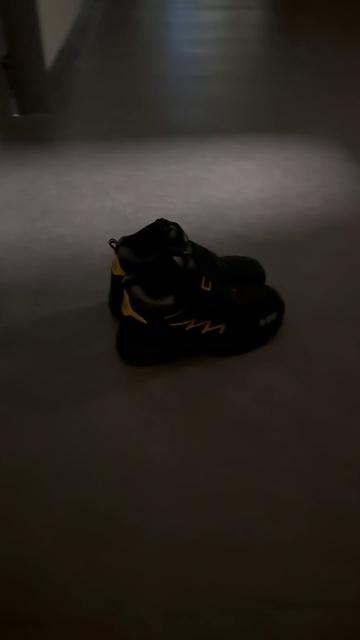shoe_worn: (114, 274, 287, 365), (99, 215, 269, 282)
